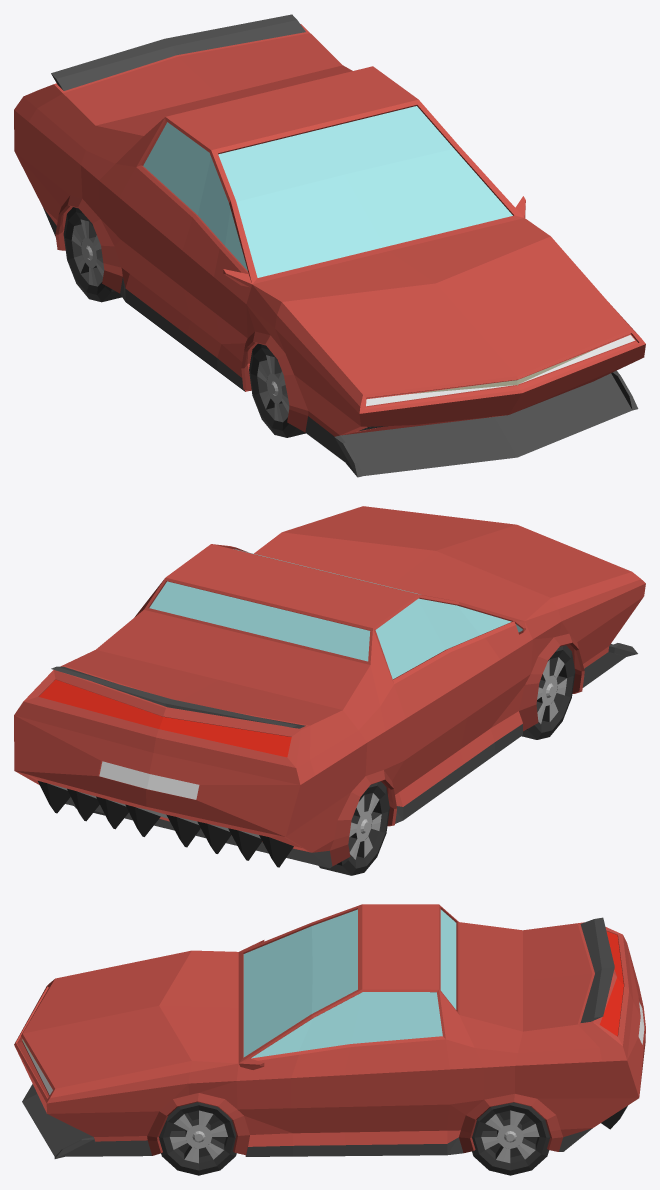
File: Car.fbx
3 views of the same model, one above another, from view 1: azimuth 30°, elevation 25°; view 2: azimuth 150°, elevation 25°; view 3: azimuth 270°, elevation 25° (orthographic). The views are drawn at different scales.
Visible parts, largest first — view 1: Car, wheel_rear_right, wheel_front_right; view 2: Car, wheel_rear_right, wheel_front_right; view 3: Car, wheel_rear_left, wheel_front_left.
Part boxes in pixels (x1=…): Car: x1=14, y1=14, x2=645, y2=477; wheel_rear_right: x1=63, y1=207, x2=121, y2=302; wheel_front_right: x1=249, y1=343, x2=305, y2=437; Car: x1=14, y1=506, x2=645, y2=868; wheel_rear_right: x1=318, y1=781, x2=389, y2=875; wheel_front_right: x1=521, y1=645, x2=575, y2=739; Car: x1=14, y1=904, x2=645, y2=1158; wheel_rear_left: x1=472, y1=1102, x2=550, y2=1175; wheel_front_left: x1=159, y1=1102, x2=236, y2=1175.
Bounding box in the file's own units: 223 × 146 × 484.
